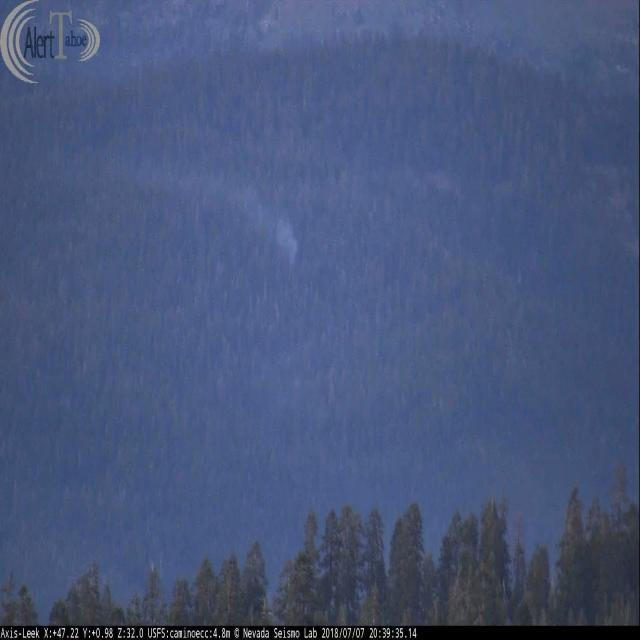smoke: (275, 218, 299, 270)
